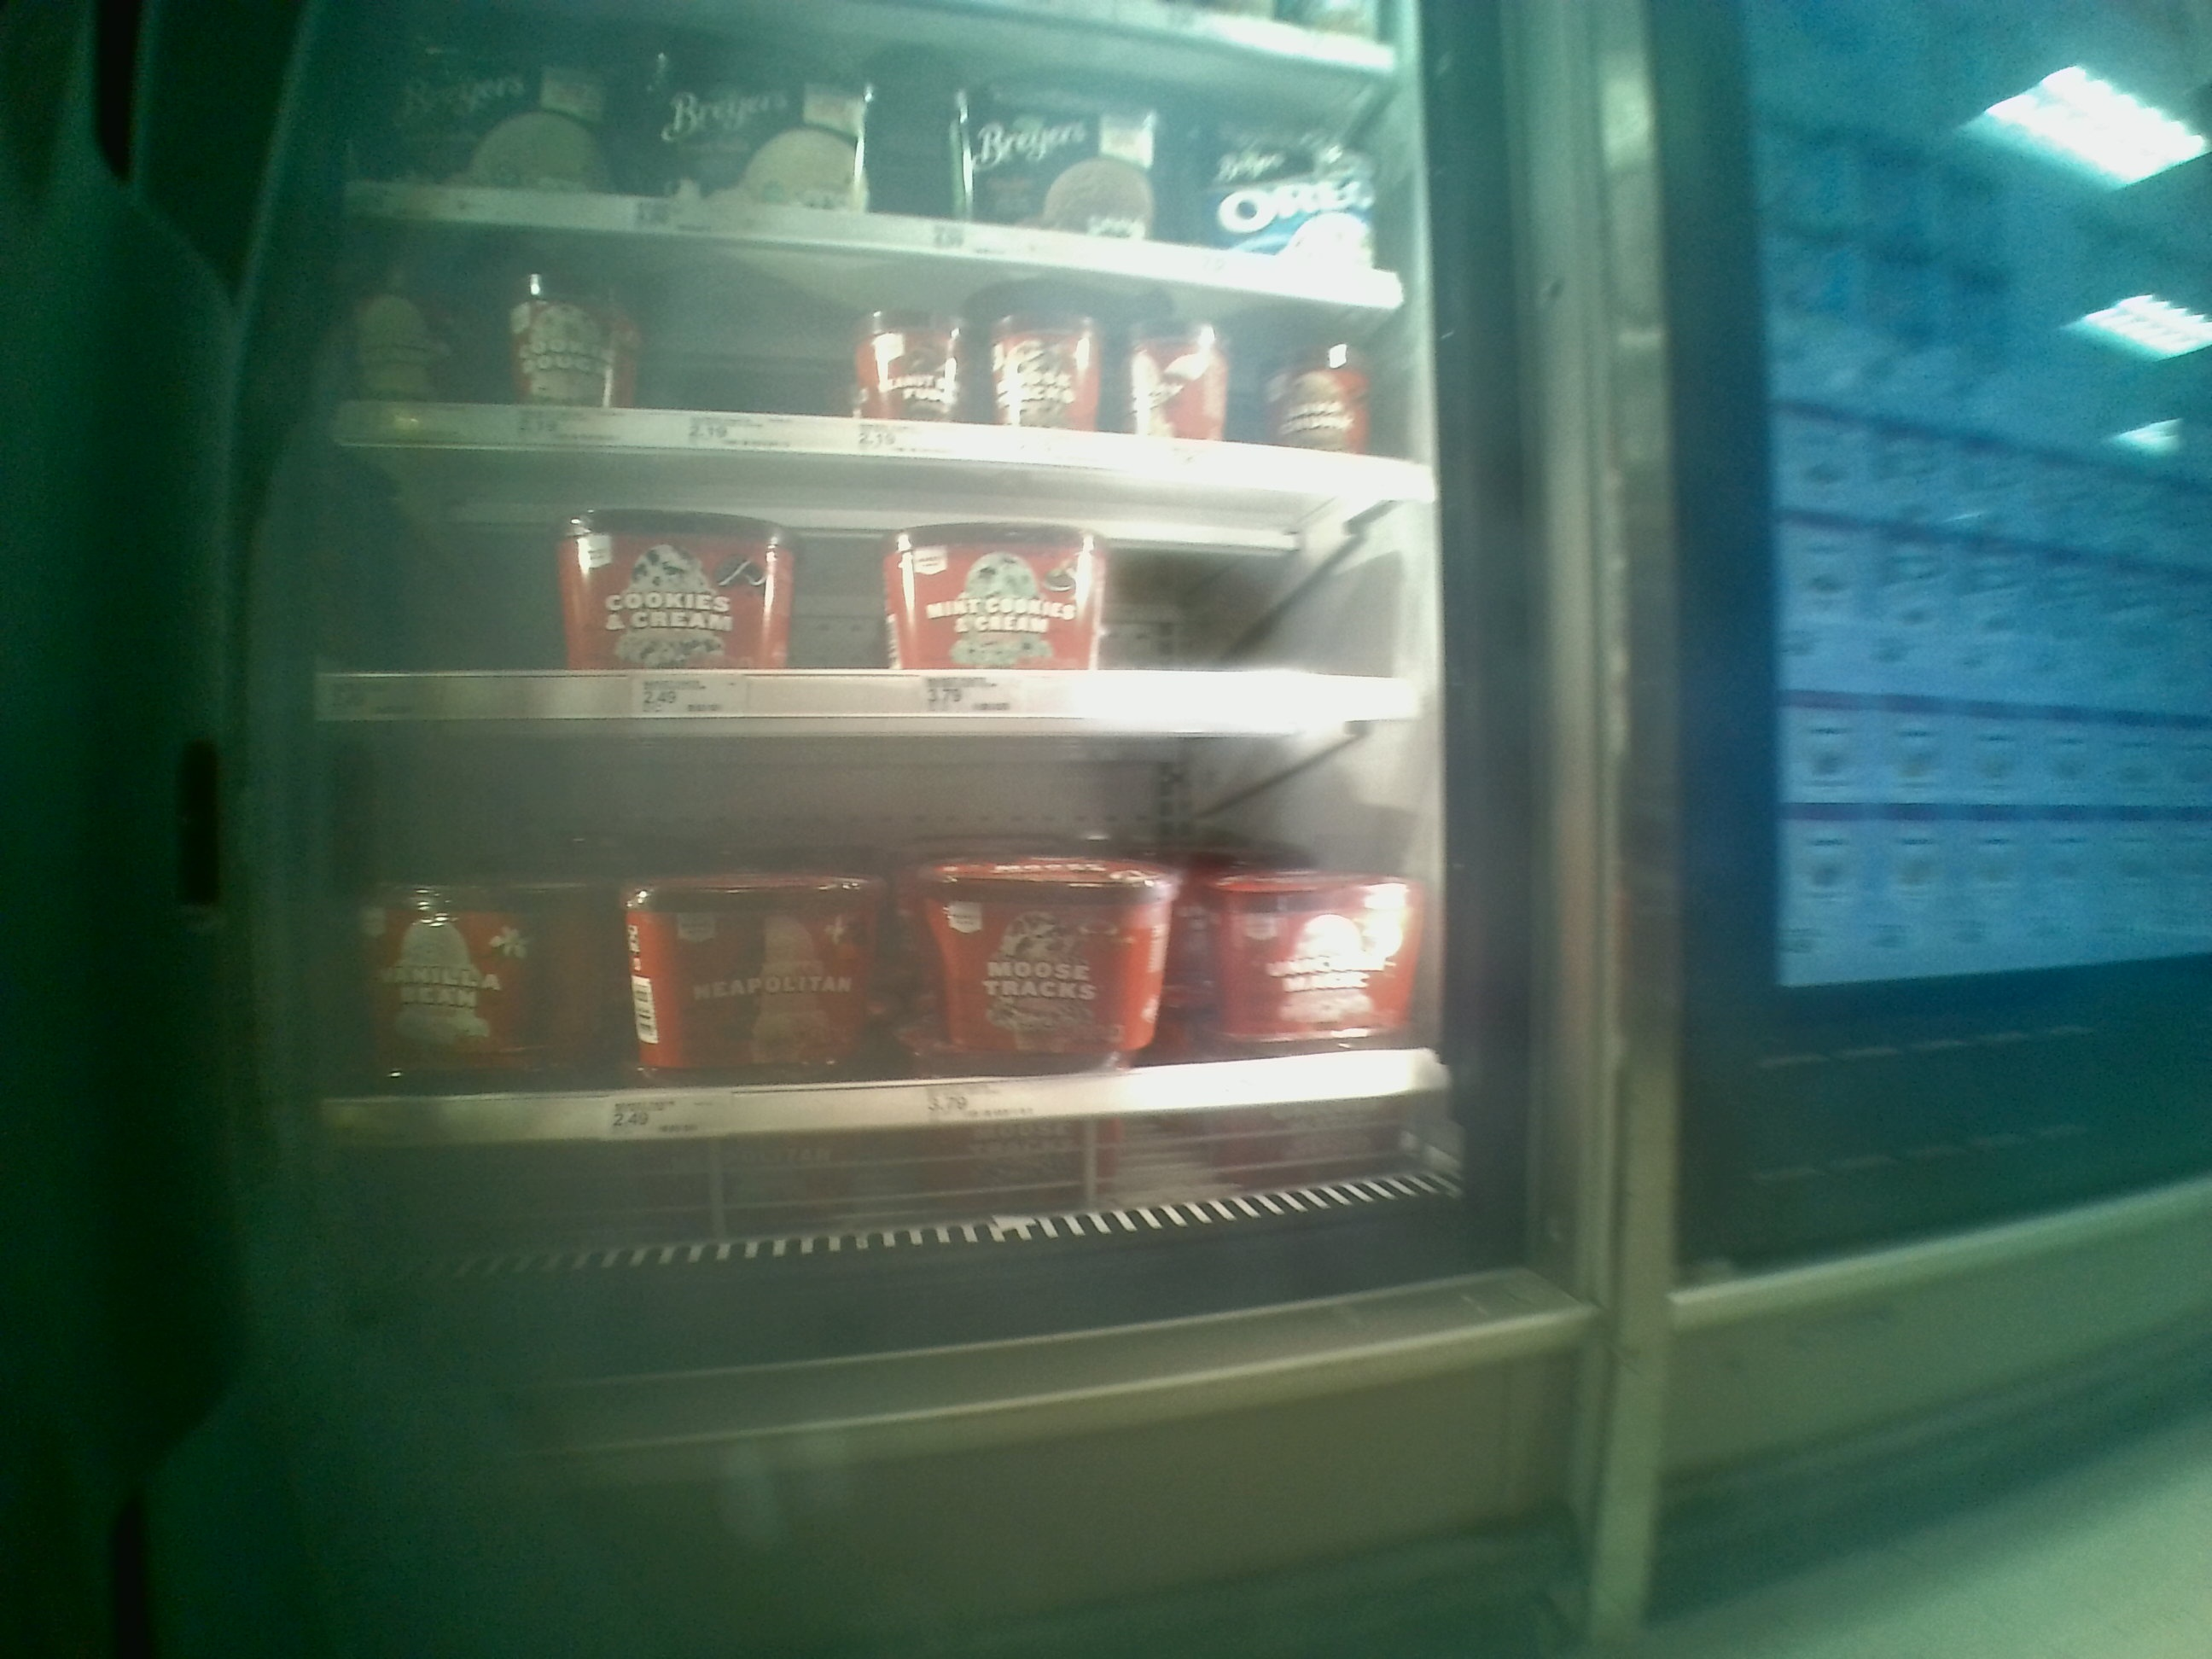ice-cream-shelf: (308, 723, 1447, 1148), (314, 436, 1435, 721)
